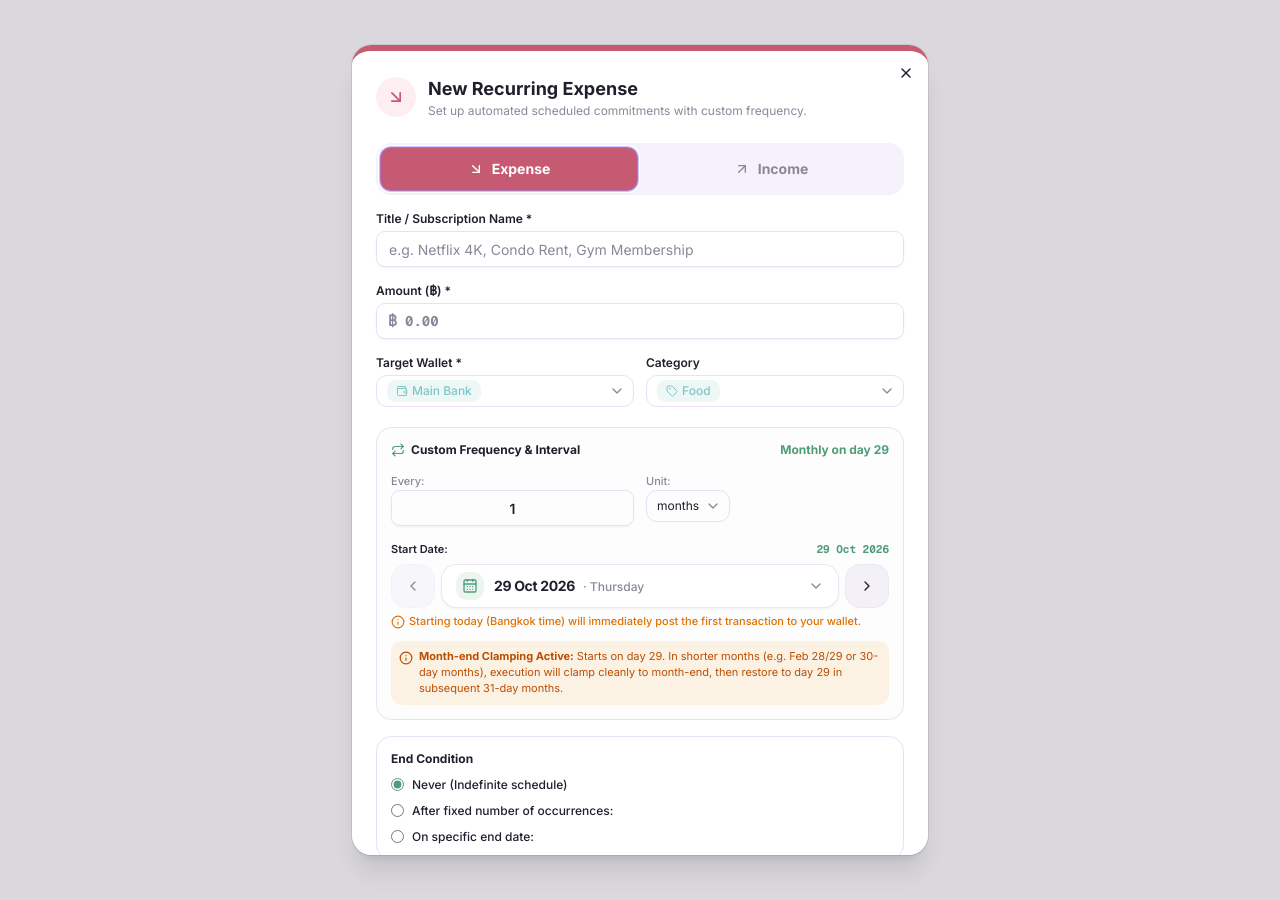
Test: CreateRuleModal (US4-1) › validates amount <= 0 and shows error message
This screenshot has width=1280, height=900.
Type "Test Rule" into the field labelled "Title / Subscription Name *" at x=640, y=249, box x1=376 y1=231 x2=904 y2=267
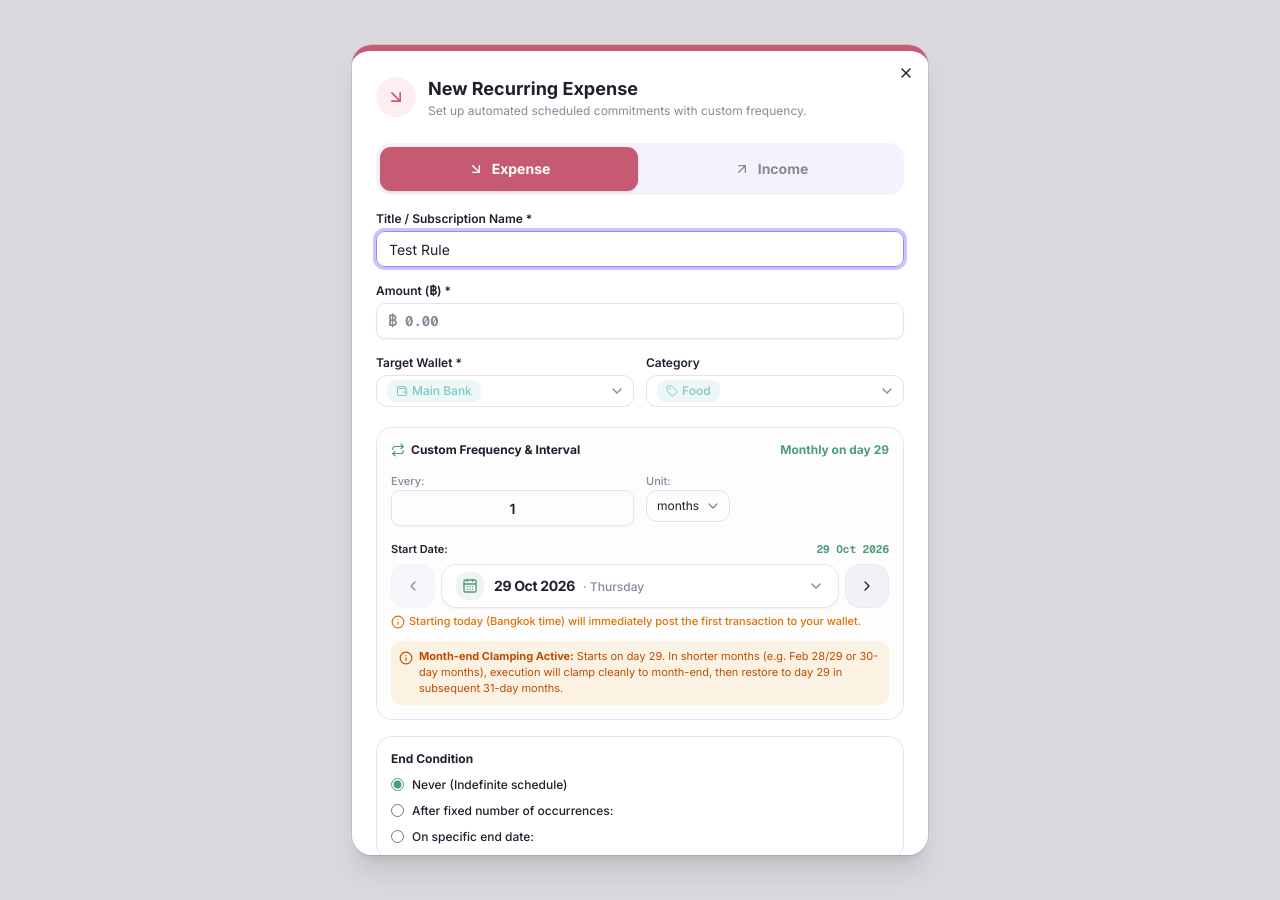
Type "0" into the number field labelled "Amount (฿) *" at x=640, y=321, box x1=376 y1=303 x2=904 y2=339
(page scrolled)
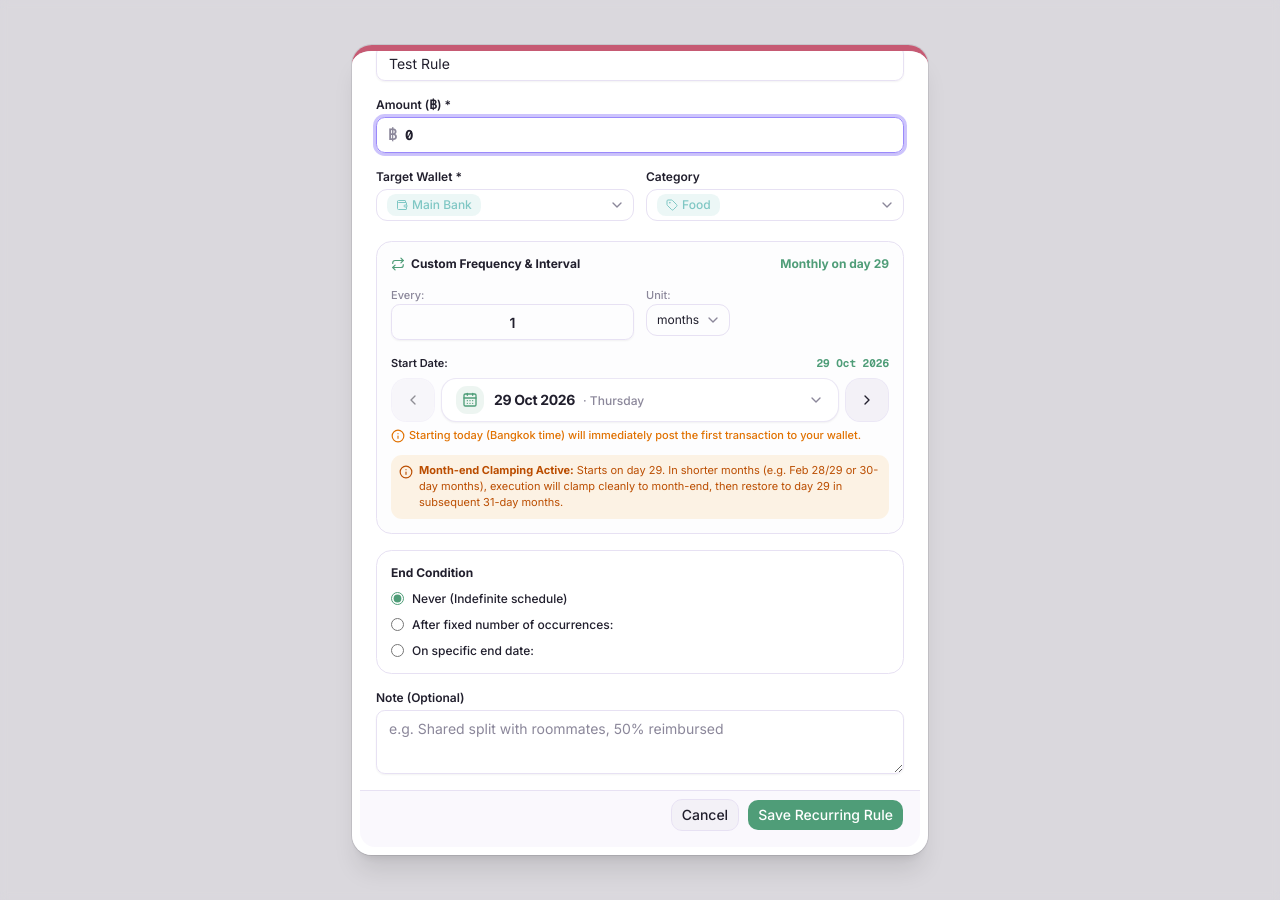
Click the button "Save Recurring Rule" at x=826, y=814, box x1=747 y1=798 x2=904 y2=830
(page scrolled)
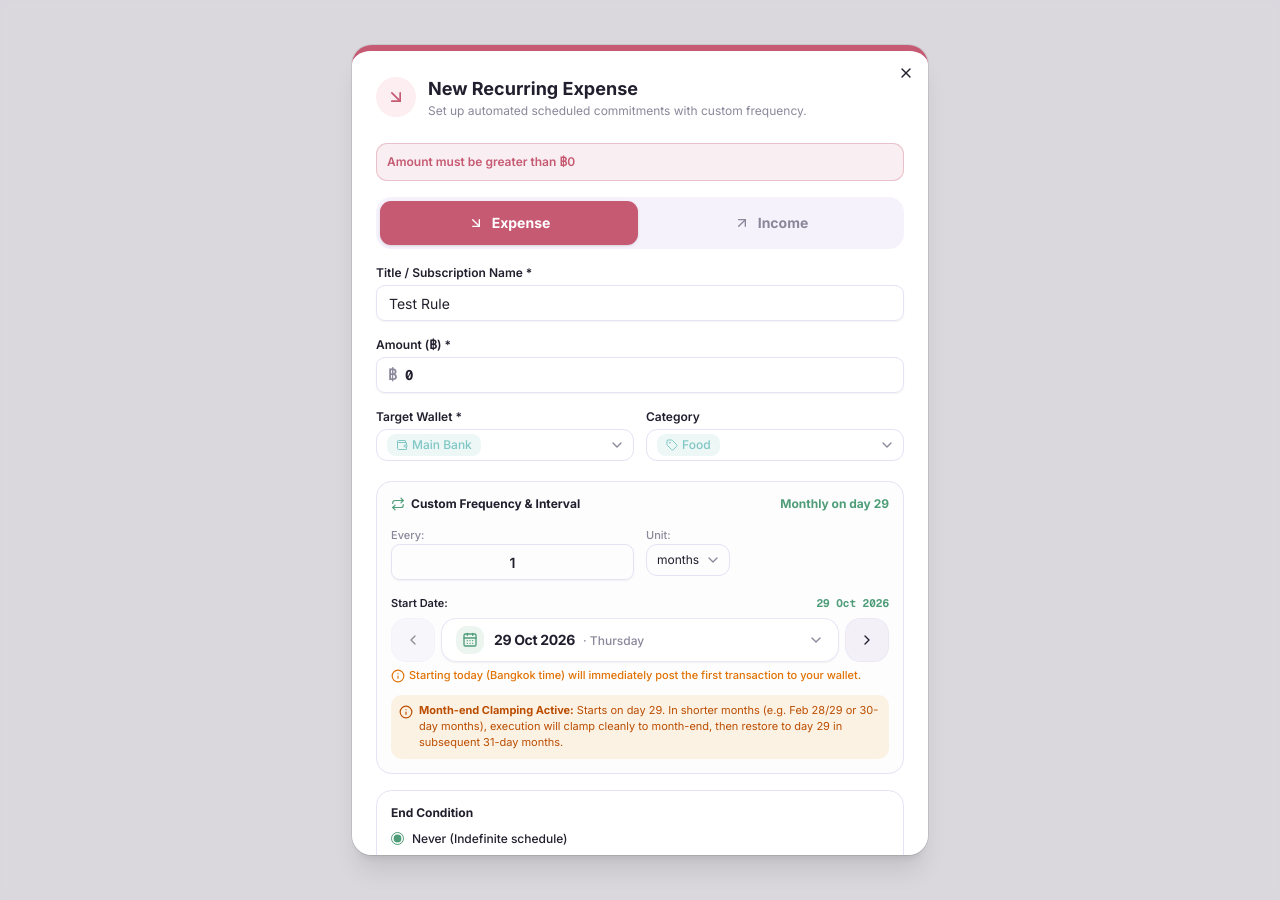
Expected: the text "Amount must be greater than ฿0" is shown, x1=376 y1=143 x2=904 y2=181
